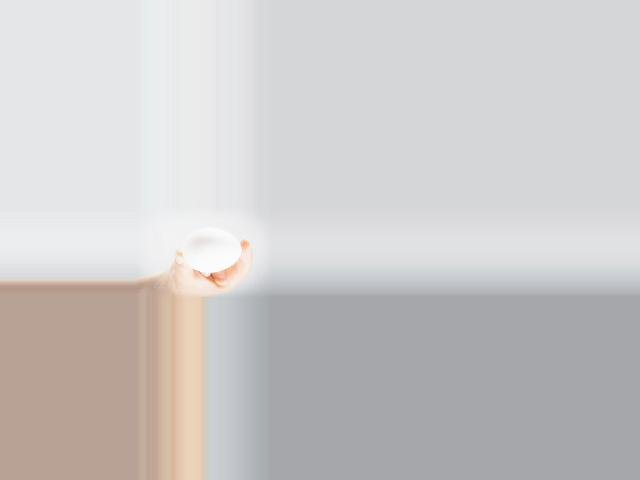egg: (183, 228, 241, 272)
